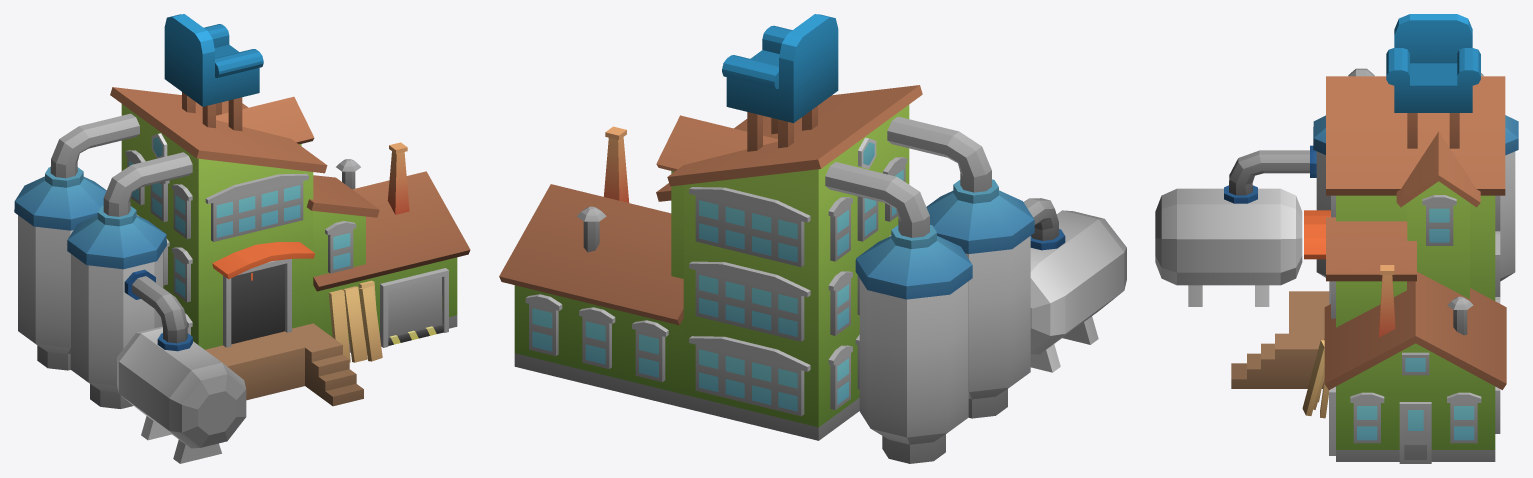
File: furniture factory house.fbx
3 views of the same model, side by side, from view 1: azimuth 30°, elevation 25°; view 2: azimuth 150°, elevation 25°; view 3: azimuth 270°, elevation 25° (orthographic). The views are drawn at different scales.
Parts seen in each view (by area): view 1: furniture_factory_house; view 2: furniture_factory_house; view 3: furniture_factory_house.
Part boxes in pixels (x1=…): furniture_factory_house: x1=14, y1=14, x2=470, y2=463; furniture_factory_house: x1=499, y1=14, x2=1126, y2=463; furniture_factory_house: x1=1155, y1=14, x2=1518, y2=463.
Bounding box in the file's own units: 1418 × 1161 × 1147.
1 material, 1 textured.
